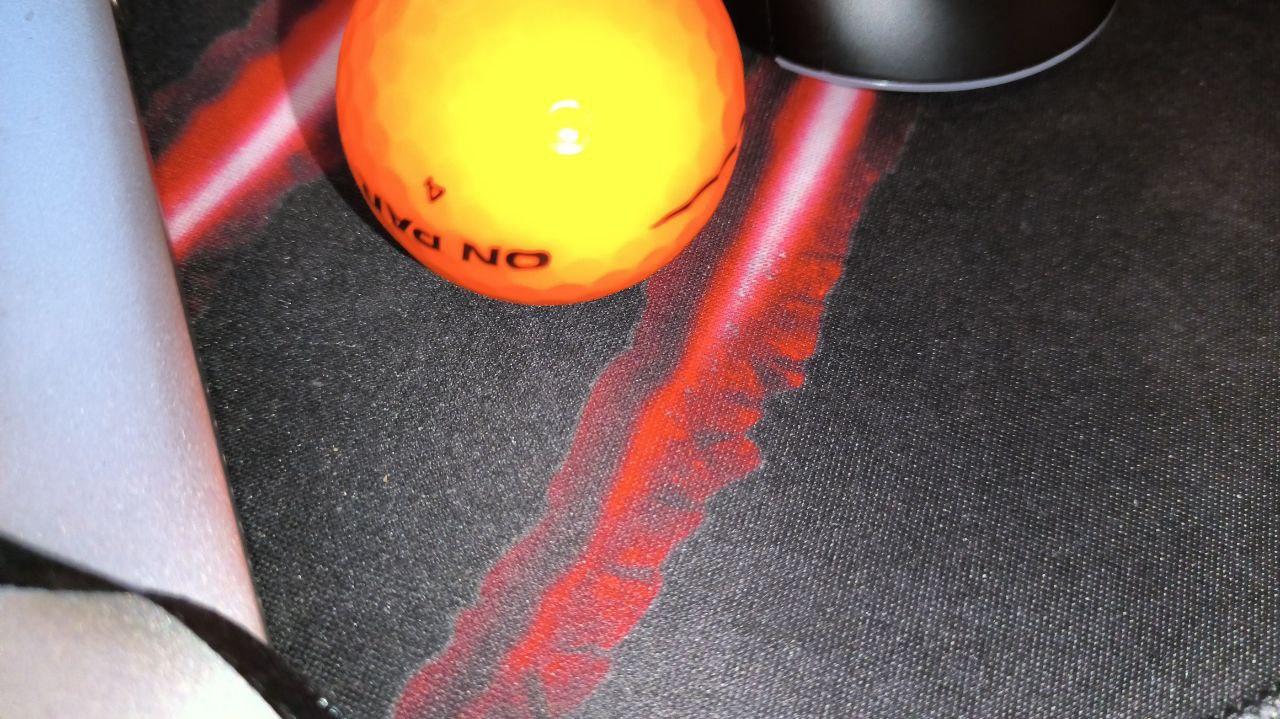orange_ball: (336, 0, 746, 306)
